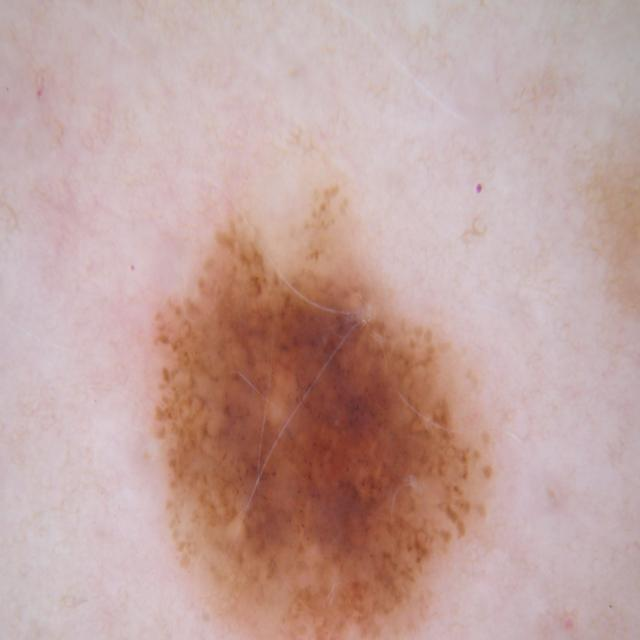Melanoma: (100, 185, 525, 640)
